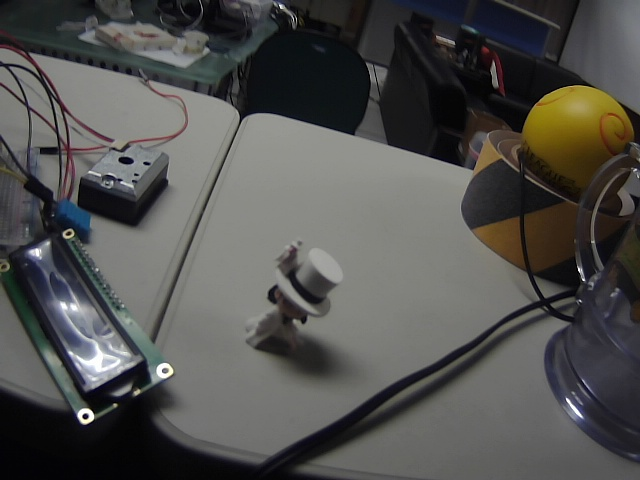lucci: (236, 233, 347, 370)
